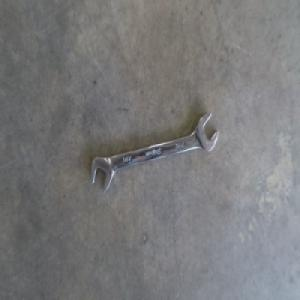Wrench: (90, 110, 219, 191)
